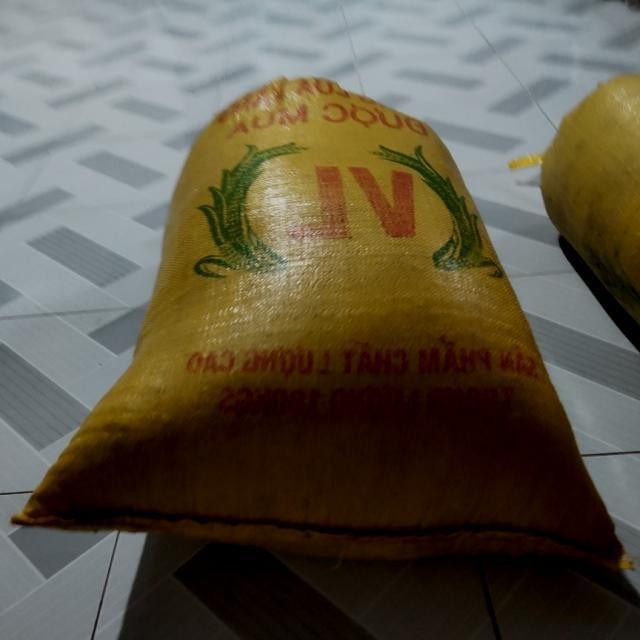gunny_bag: (15, 77, 630, 570)
